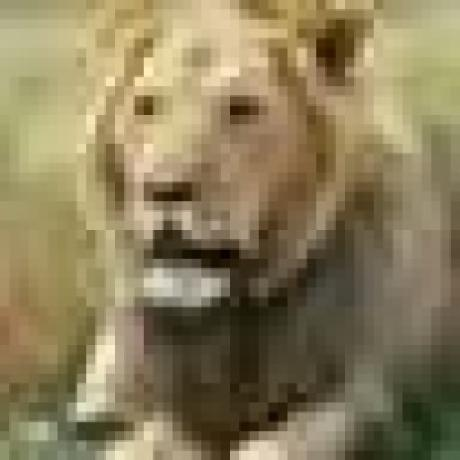Lion: (72, 0, 460, 460)
